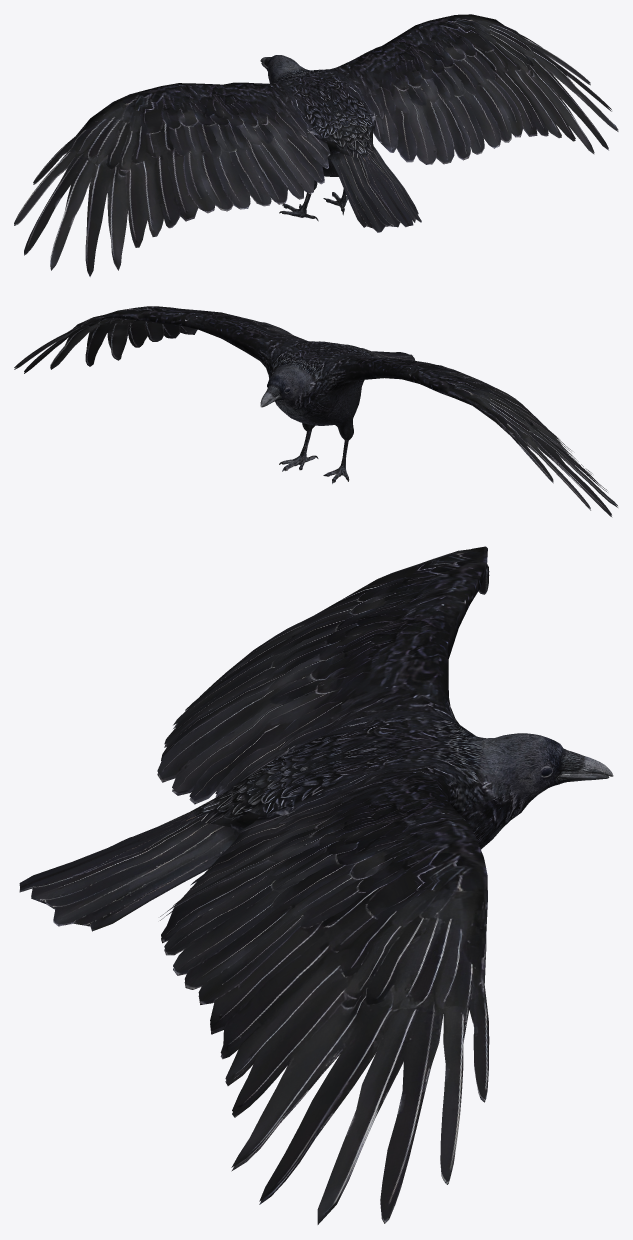
File: raven.obj
3 renders of one model, top to bottom at view 1: azimuth 30°, elevation 25°; view 2: azimuth 150°, elevation 25°; view 3: azimuth 270°, elevation 25°, orthographic. The views are drawn at different scales.
Parts seen in each view (by area): view 1: raven_Material.001; view 2: raven_Material.001; view 3: raven_Material.001.
Part boxes in pixels (bbox=[...]): raven_Material.001: bbox=[14, 14, 618, 276]; raven_Material.001: bbox=[14, 306, 617, 517]; raven_Material.001: bbox=[19, 546, 613, 1224].
Bounding box in the file's own units: 0.9858 × 0.2273 × 0.4308.
